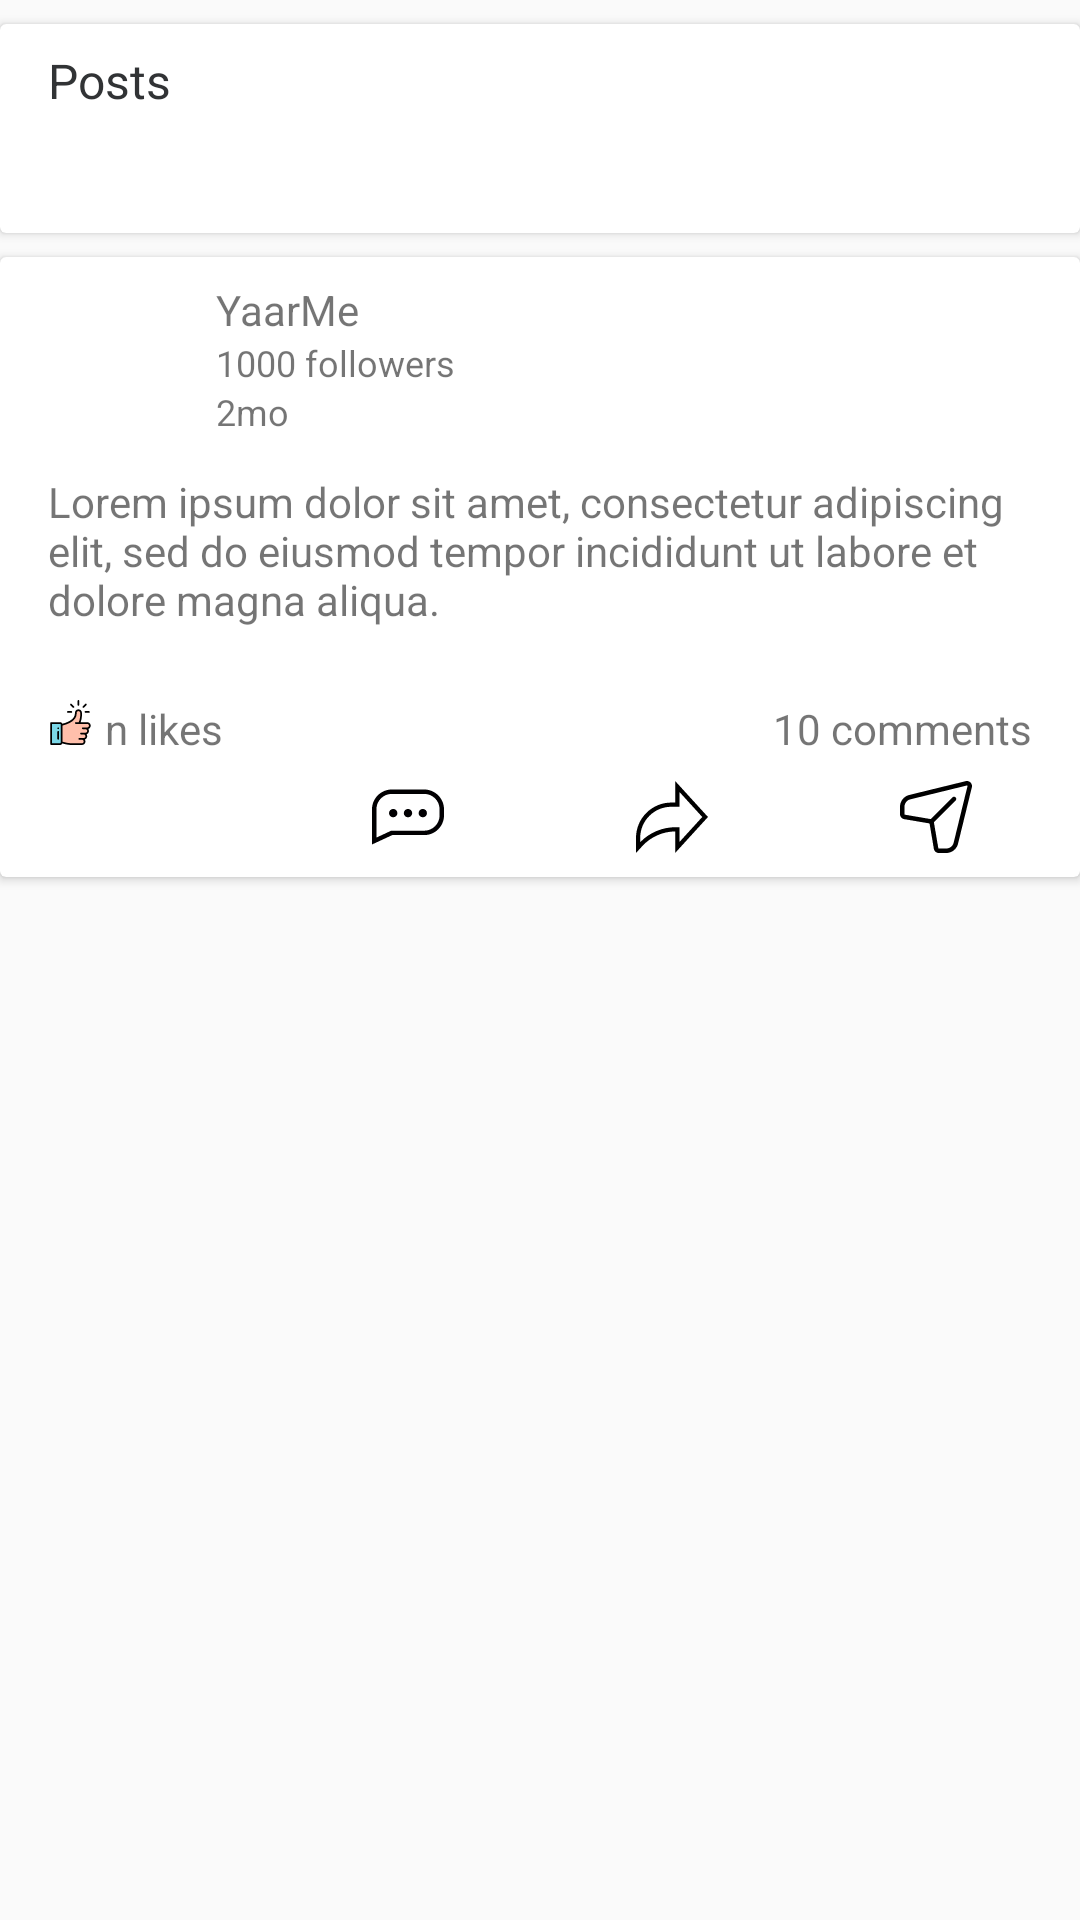

Icons on this 1080w x 1920h Android screen, each with the point to tap as [x,y]:
comment: [408,817]
send: [936,817]
share: [672,817]
